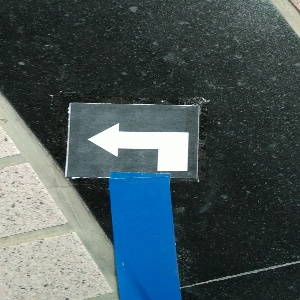left: (67, 102, 199, 179)
